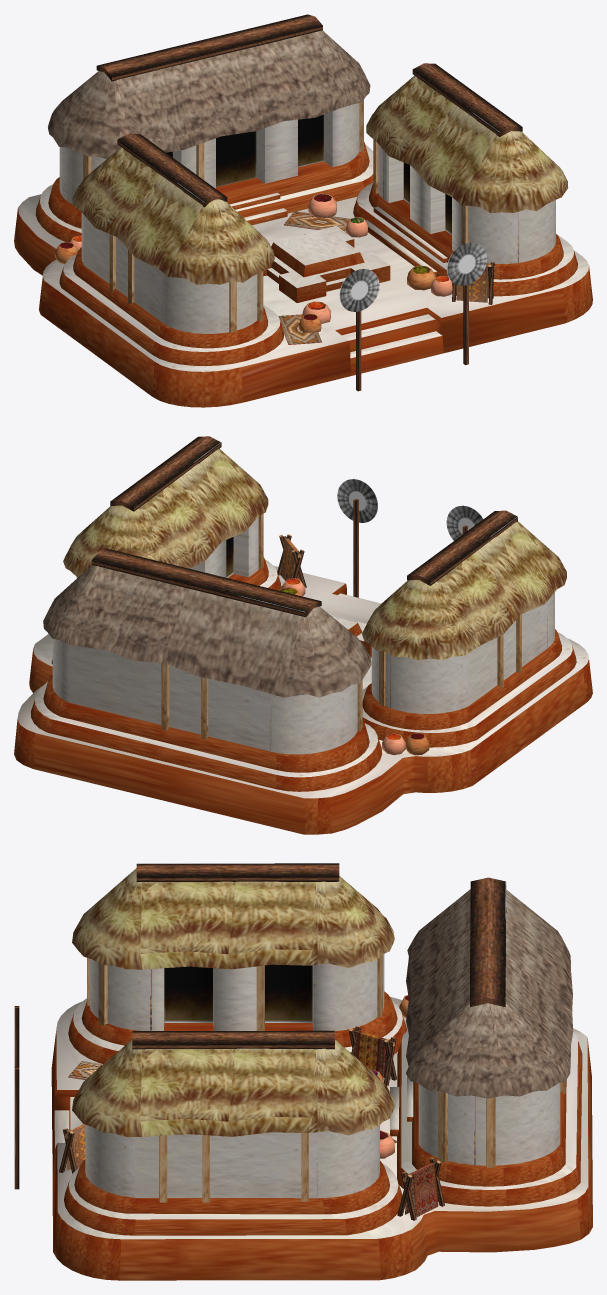
The model's file is cc_menor_1.dae.
3 renders of one model, top to bottom at view 1: azimuth 30°, elevation 25°; view 2: azimuth 150°, elevation 25°; view 3: azimuth 270°, elevation 25°, orthographic. The views are drawn at different scales.
Visible parts, largest first — view 1: cc_nm_1; view 2: cc_nm_1; view 3: cc_nm_1.
Part boxes in pixels (x1,y1,x2,y2): cc_nm_1: (14, 14, 592, 407); cc_nm_1: (14, 436, 592, 834); cc_nm_1: (14, 863, 592, 1280).
Size of the model in its own units: 25.13 by 24.8 by 10.37.
Materials: 1 (1 with a texture image).
